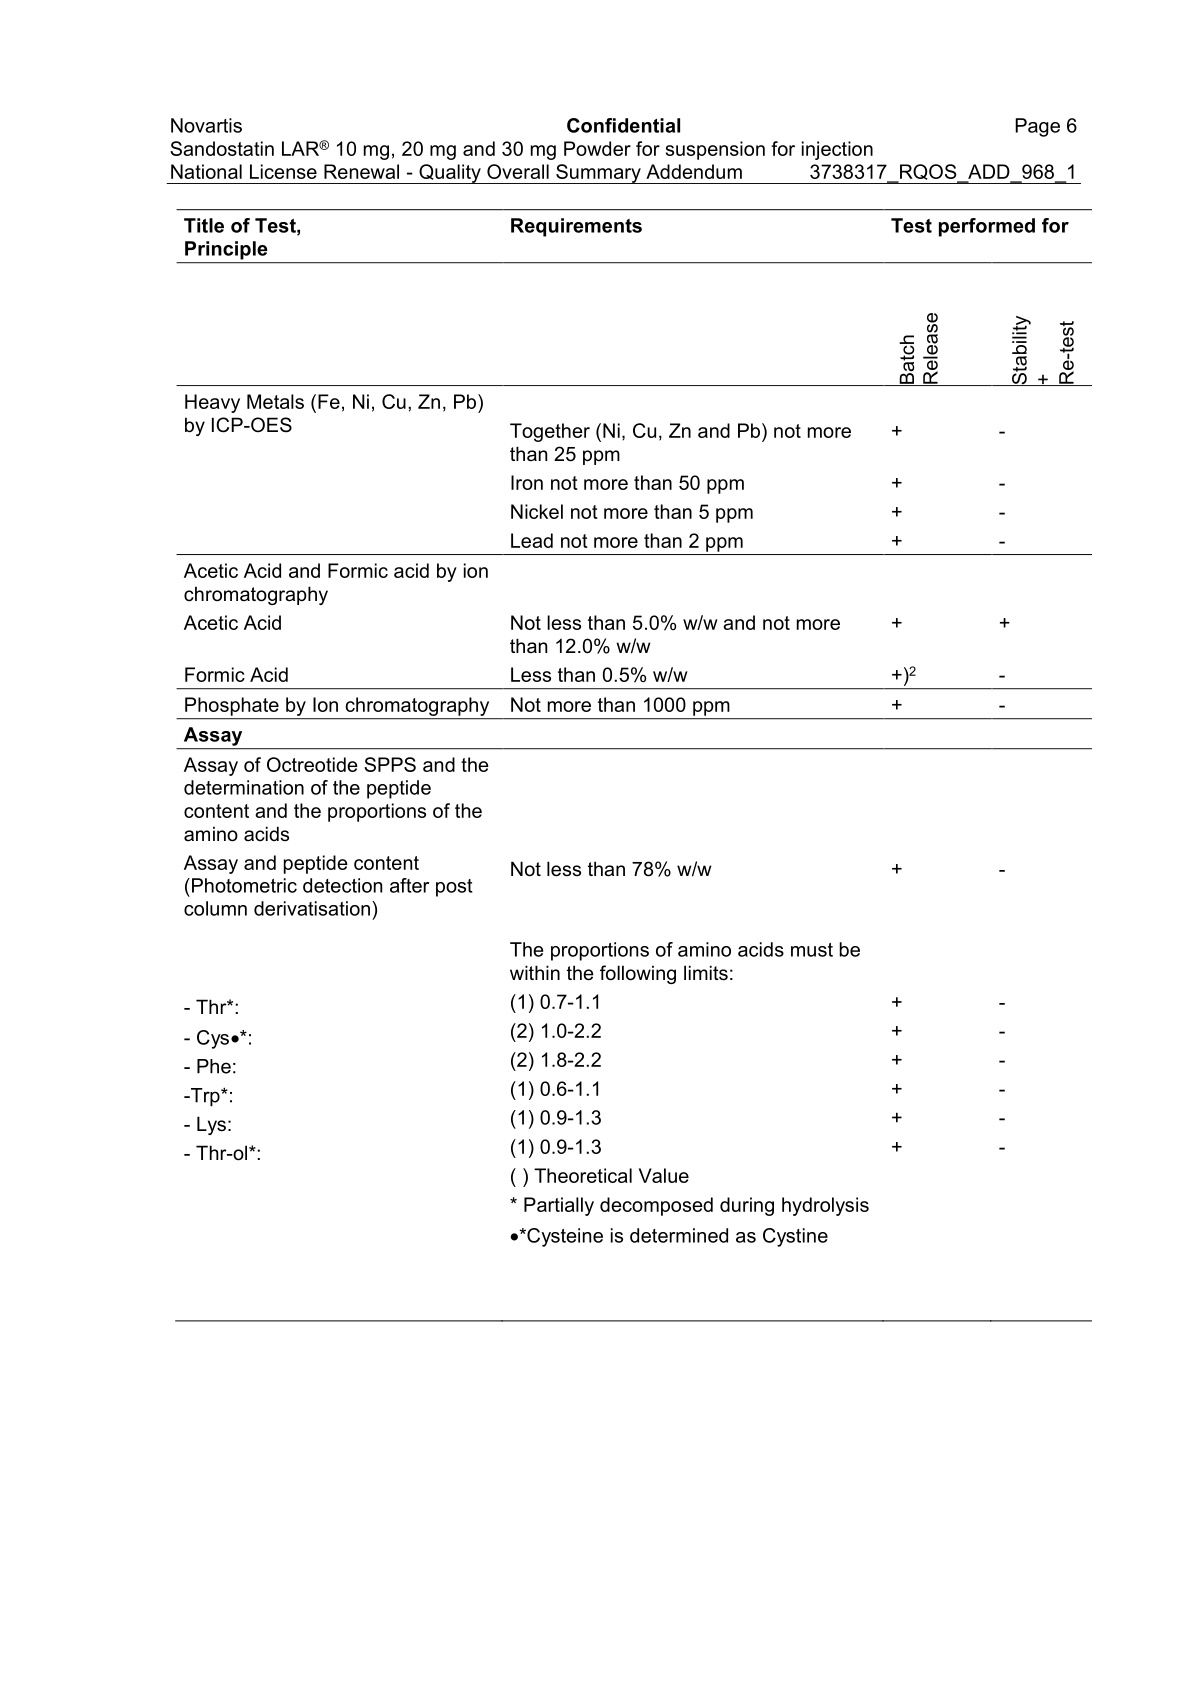partial_lined: (173, 207, 1093, 1325)
